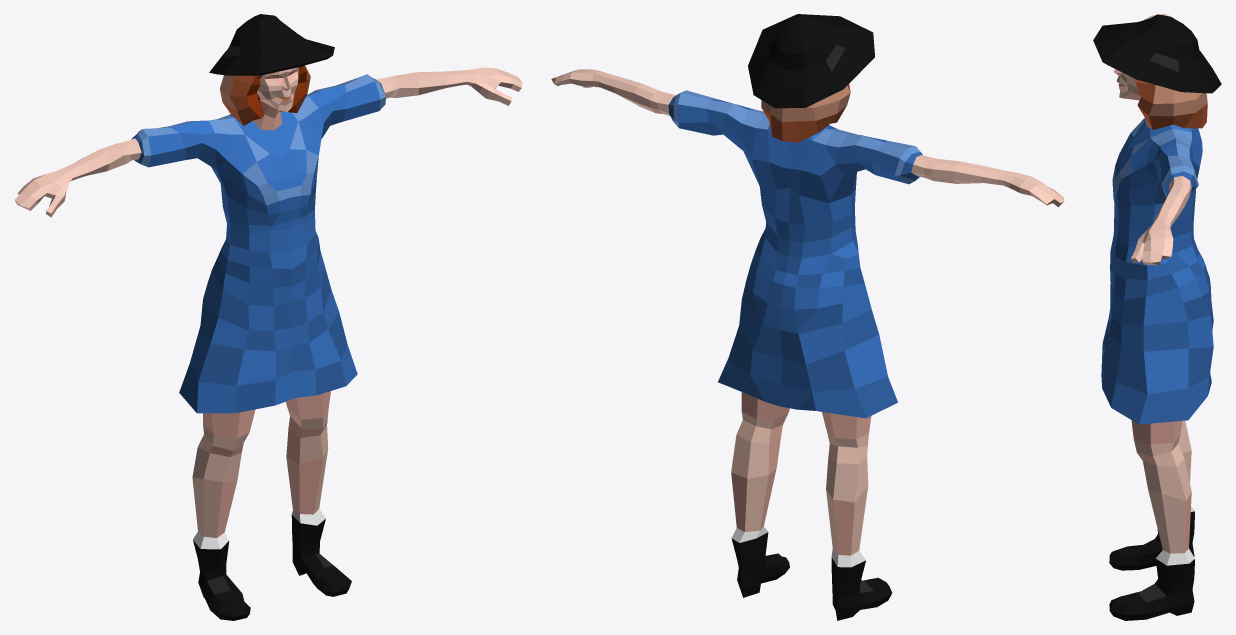
Rendered from casual_Female_H-model.fbx.
3 renders of one model, left to right at view 1: azimuth 30°, elevation 25°; view 2: azimuth 150°, elevation 25°; view 3: azimuth 270°, elevation 25°, orthographic.
Parts seen in each view (by area): view 1: casual_Female_H, acc_brown_hat; view 2: casual_Female_H, acc_brown_hat; view 3: casual_Female_H, acc_brown_hat.
Part boxes in pixels (left/top/right/bottom): casual_Female_H: left=14, top=65, right=522, bottom=620; acc_brown_hat: left=209, top=14, right=334, bottom=75; casual_Female_H: left=551, top=69, right=1064, bottom=620; acc_brown_hat: left=748, top=14, right=874, bottom=108; casual_Female_H: left=1101, top=14, right=1213, bottom=620; acc_brown_hat: left=1093, top=14, right=1221, bottom=93.
Bounding box in the file's own units: 154 × 168 × 34.15.
Materials: 1 (1 with a texture image).
